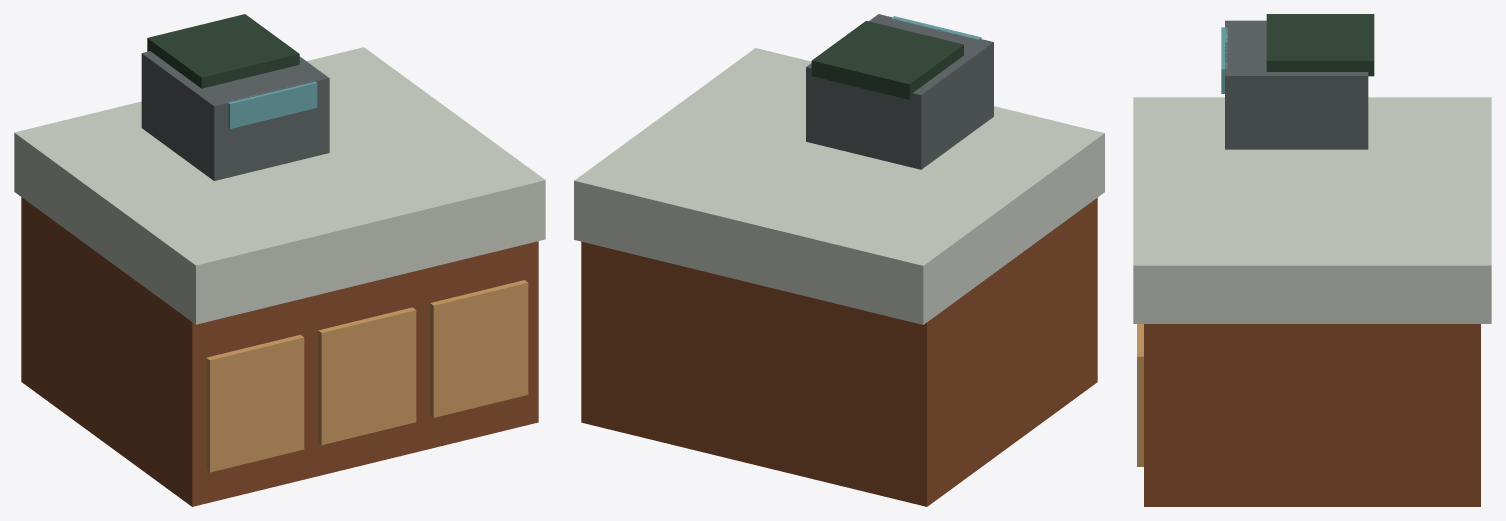
Rendered from till_brass.glb.
3 renders of one model, left to right at view 1: azimuth 30°, elevation 25°; view 2: azimuth 150°, elevation 25°; view 3: azimuth 270°, elevation 25°, orthographic.
Parts seen in each view (by area): view 1: object 1; view 2: object 1; view 3: object 1.
Boxes of the visible parts, left/top/right/bottom form: object 1: left=14, top=14, right=545, bottom=506; object 1: left=574, top=14, right=1104, bottom=506; object 1: left=1133, top=14, right=1491, bottom=506.
Size of the model in its own units: 0.498 by 0.498 by 0.448.
1 material, 1 textured.
